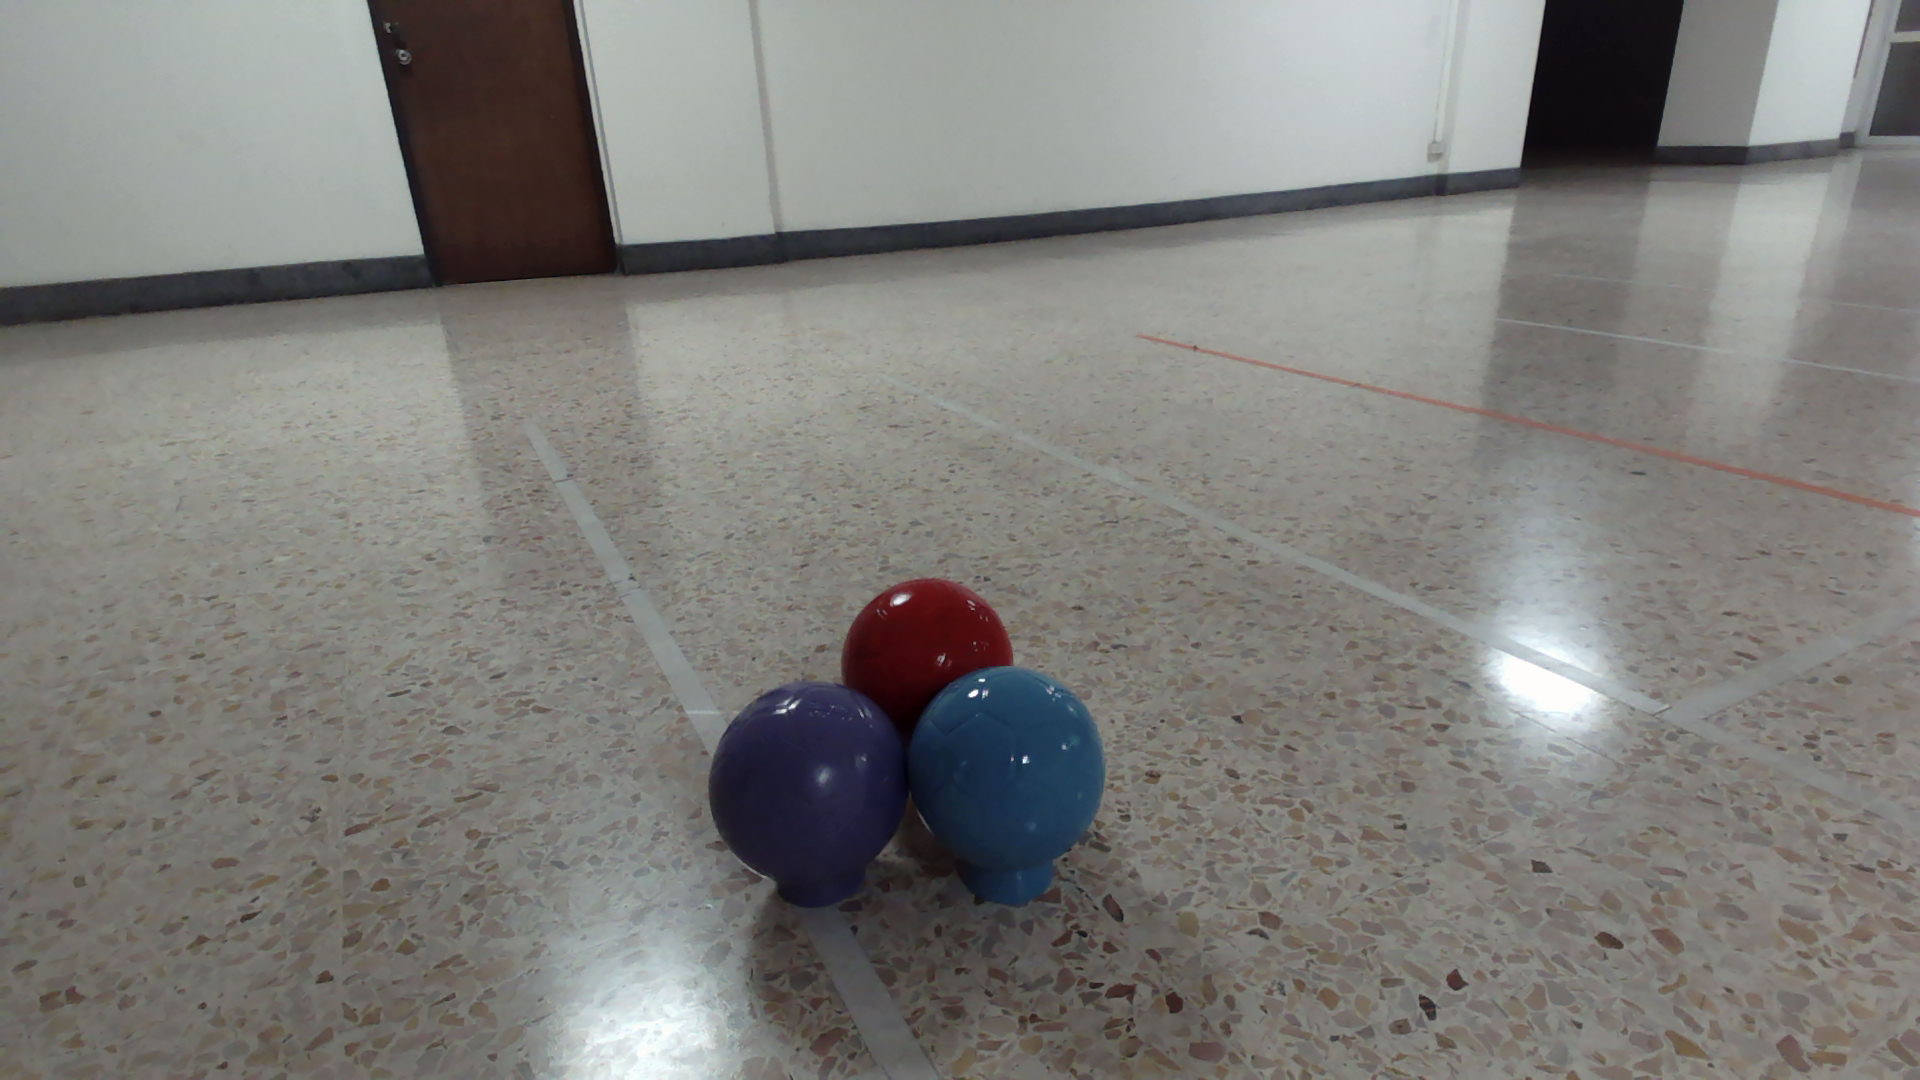Blue ball: (903, 662, 1108, 878)
Purple ball: (704, 680, 910, 890)
Red ball: (839, 574, 1015, 707)
